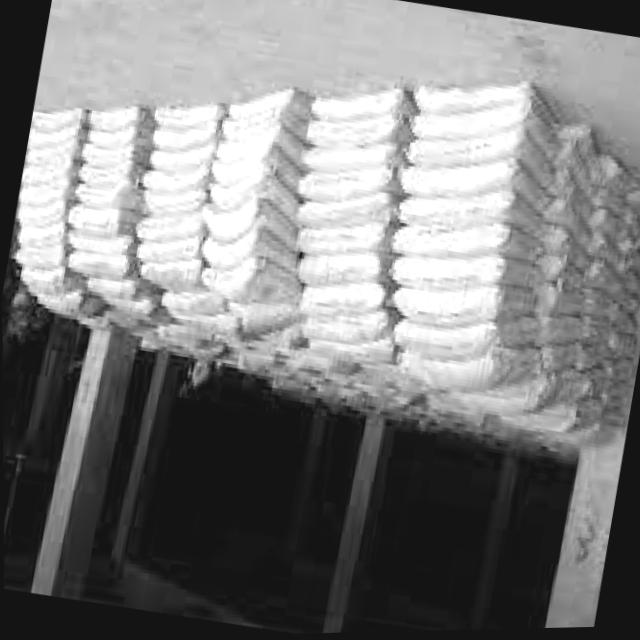cement_bag: (409, 129, 554, 187), (413, 347, 537, 397), (400, 322, 539, 360), (202, 197, 295, 252), (404, 195, 540, 231), (400, 288, 539, 322), (394, 258, 540, 290), (203, 226, 297, 270), (398, 221, 511, 256), (207, 268, 295, 311), (402, 160, 509, 191), (464, 385, 554, 418), (304, 190, 387, 225), (223, 103, 306, 137), (301, 252, 383, 286), (561, 121, 600, 184), (421, 86, 523, 110), (302, 282, 378, 313), (309, 317, 392, 345), (545, 224, 590, 275), (220, 123, 278, 161), (302, 169, 388, 194), (311, 116, 397, 141), (299, 227, 378, 254), (558, 164, 593, 224), (140, 261, 202, 294), (164, 292, 229, 323), (214, 170, 266, 202), (587, 258, 625, 301), (152, 142, 217, 167), (71, 199, 119, 232), (148, 189, 200, 217), (553, 369, 593, 405), (543, 284, 584, 319), (25, 270, 74, 298), (157, 124, 215, 147), (547, 344, 590, 375), (68, 259, 127, 281), (138, 234, 194, 257), (82, 138, 129, 165), (542, 315, 582, 345), (605, 159, 632, 200), (595, 208, 623, 246), (90, 104, 136, 125), (606, 332, 635, 360), (23, 161, 65, 177), (21, 223, 62, 239)
